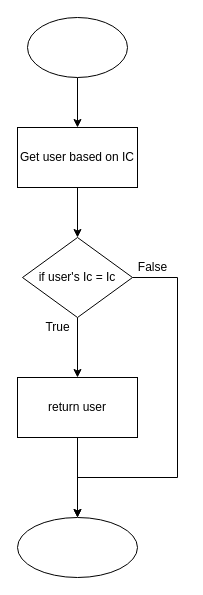
This 203x595 diagram has some shape labels left out. The shapes that lost their labels are listed below. From the top down, each one's centre as x and y in pixels, then its label:
At point 77,47: "get_user(self, Ic)".
At point 77,547: "End".
